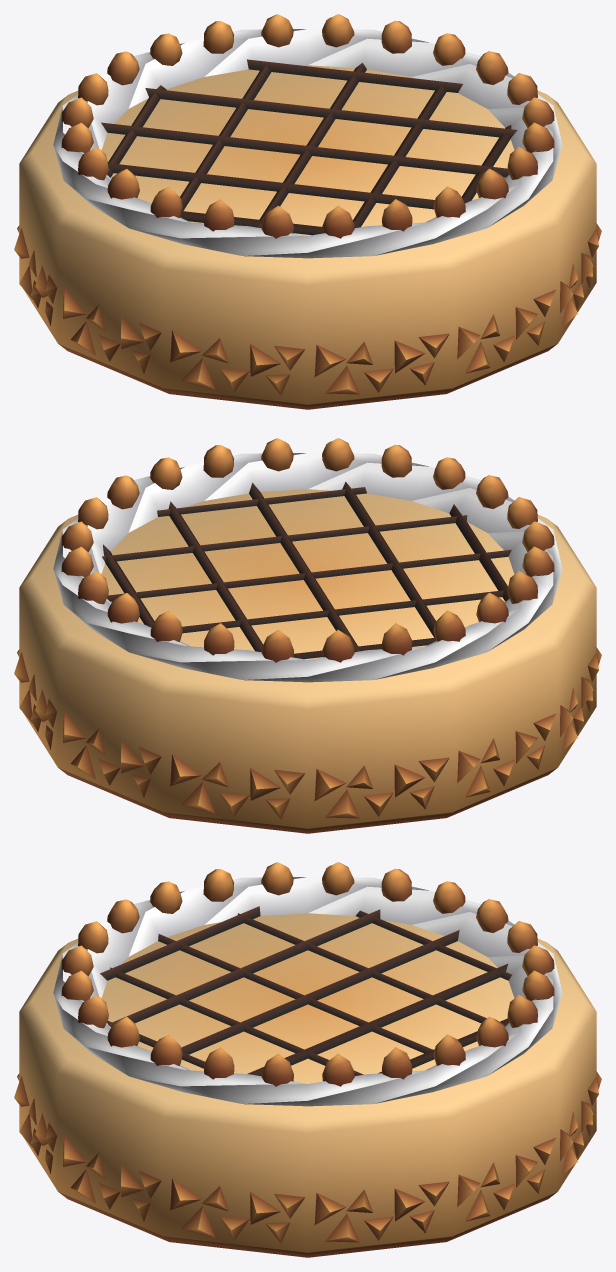
File: m_MarzipanCake01.fbx
3 views of the same model, one above another, from view 1: azimuth 30°, elevation 25°; view 2: azimuth 150°, elevation 25°; view 3: azimuth 270°, elevation 25° (orthographic).
Parts seen in each view (by area): view 1: m_MarzipanCake01; view 2: m_MarzipanCake01; view 3: m_MarzipanCake01.
Part boxes in pixels (box(x1,y1,x2,y2)): m_MarzipanCake01: box(14, 14, 601, 409); m_MarzipanCake01: box(14, 438, 601, 833); m_MarzipanCake01: box(14, 862, 601, 1257).
Bounding box in the file's own units: 28.51 × 9.77 × 28.51.
